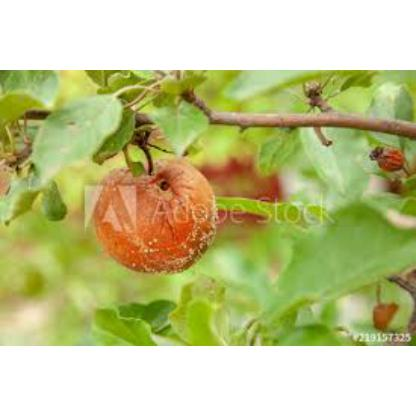damaged_apple: (91, 148, 212, 276)
